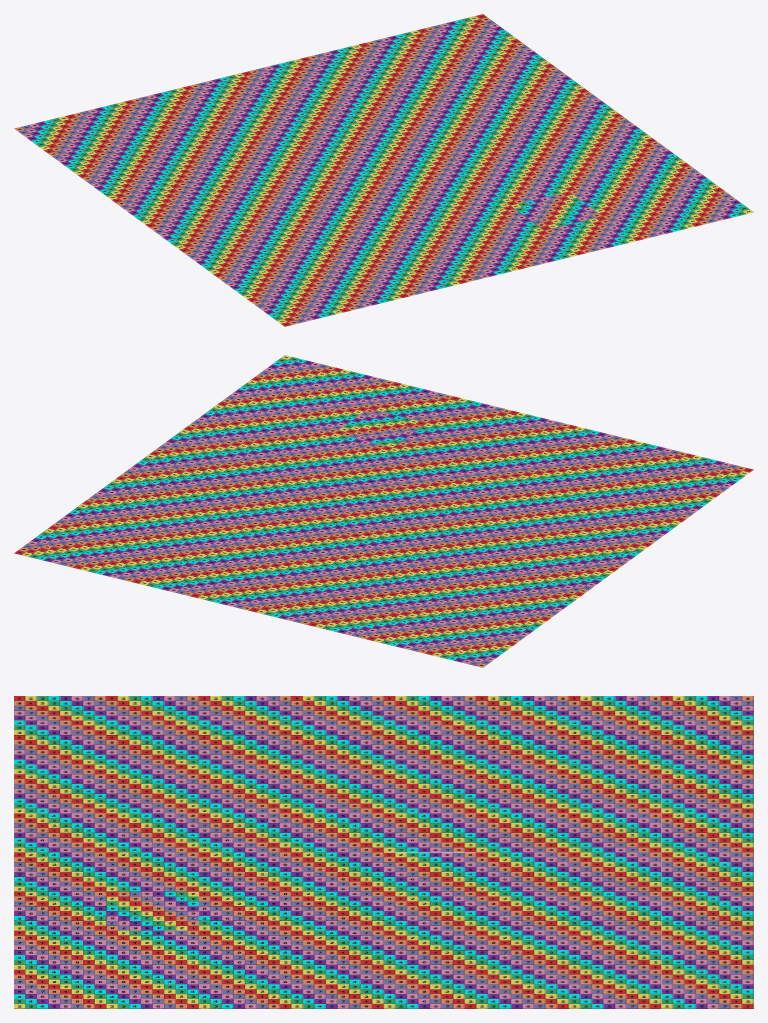
The model's file is watertess_top_rightcorner.fbx.
The picture shows the model from 3 angles, top to bottom: view 1: azimuth 30°, elevation 25°; view 2: azimuth 150°, elevation 25°; view 3: azimuth 270°, elevation 25°; orthographic projection. The views are drawn at different scales.
Visible parts, largest first — view 1: top_rightcorner_f; view 2: top_rightcorner_f; view 3: top_rightcorner_f.
Part boxes in pixels (x1=…): top_rightcorner_f: x1=14, y1=14, x2=753, y2=326; top_rightcorner_f: x1=14, y1=355, x2=753, y2=667; top_rightcorner_f: x1=14, y1=696, x2=753, y2=1008.
Size of the model in its own units: 512 by 8.34e-05 by 512.
